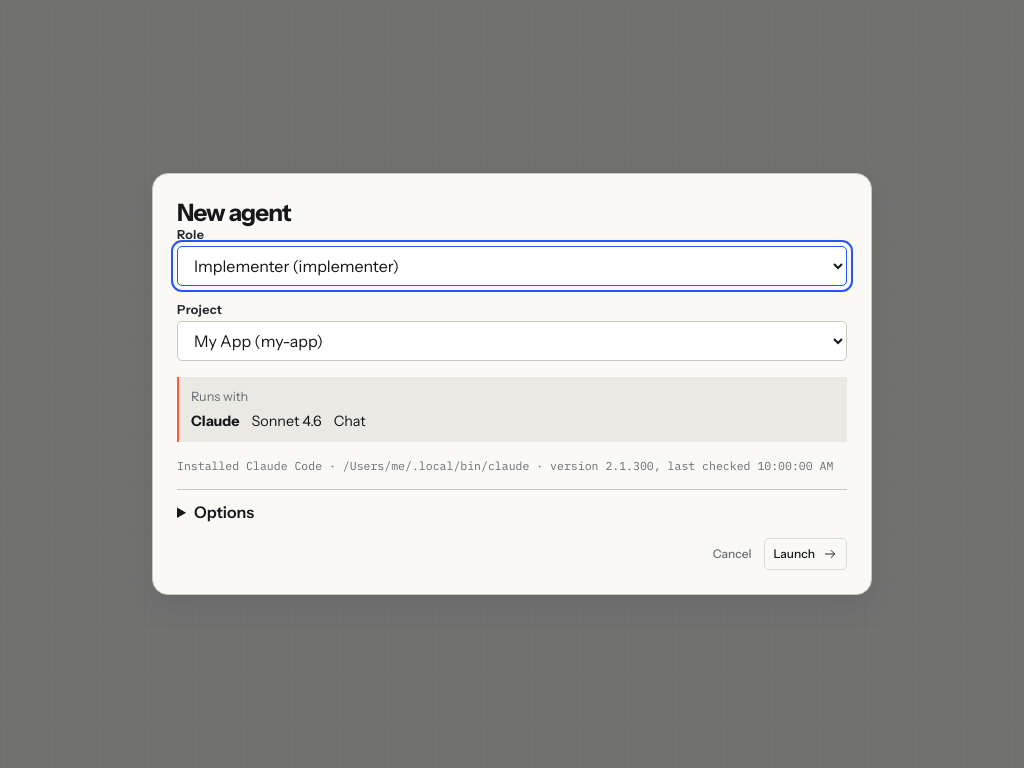
NewAgentModal › shows no Codex cache-version warning, even from a legacy runtime field
This screenshot has width=1024, height=768.
Expected: the text "Sonnet 4.6" is shown, [252, 412, 322, 430]
Click the heading "Options" at (224, 512), box [194, 502, 254, 522]
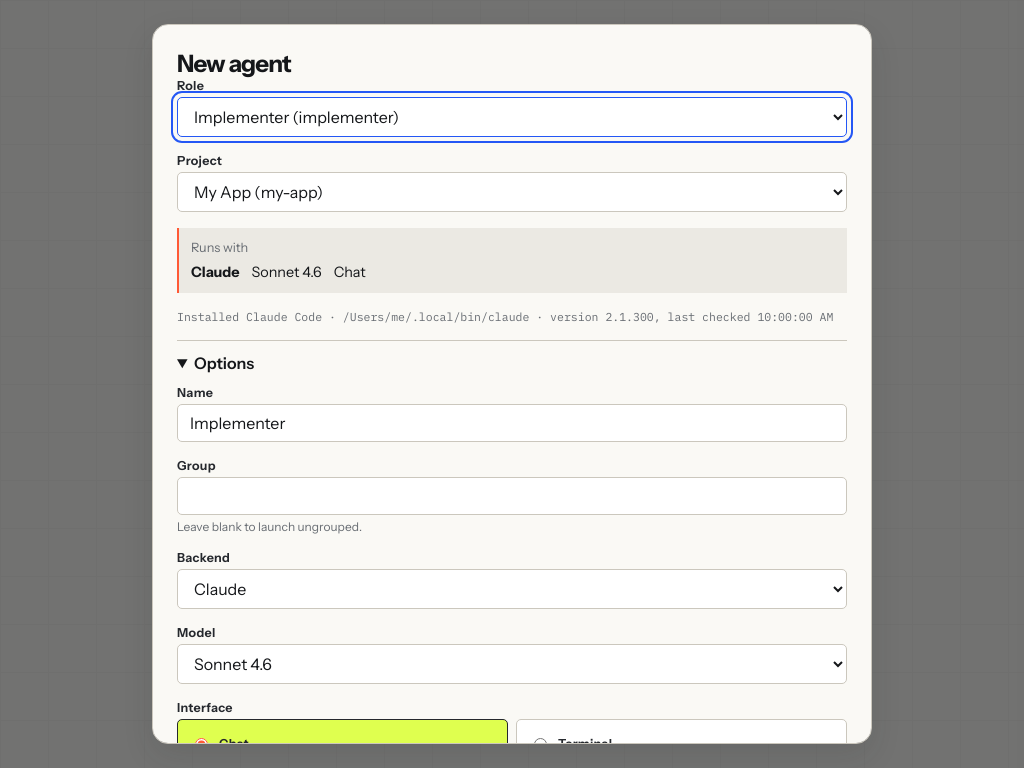
Select "Codex" in the dropdown labelled "Backend" at (512, 589), box [177, 569, 847, 609]
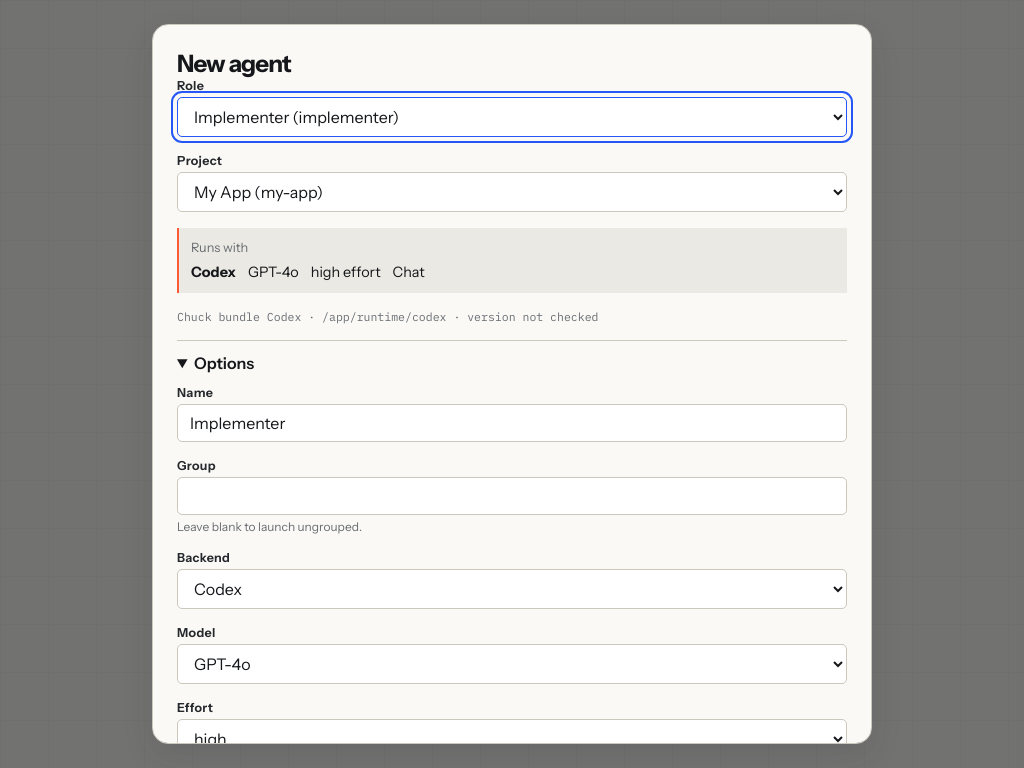
Result: the text "GPT-4o" is shown at [248, 263, 299, 281]
